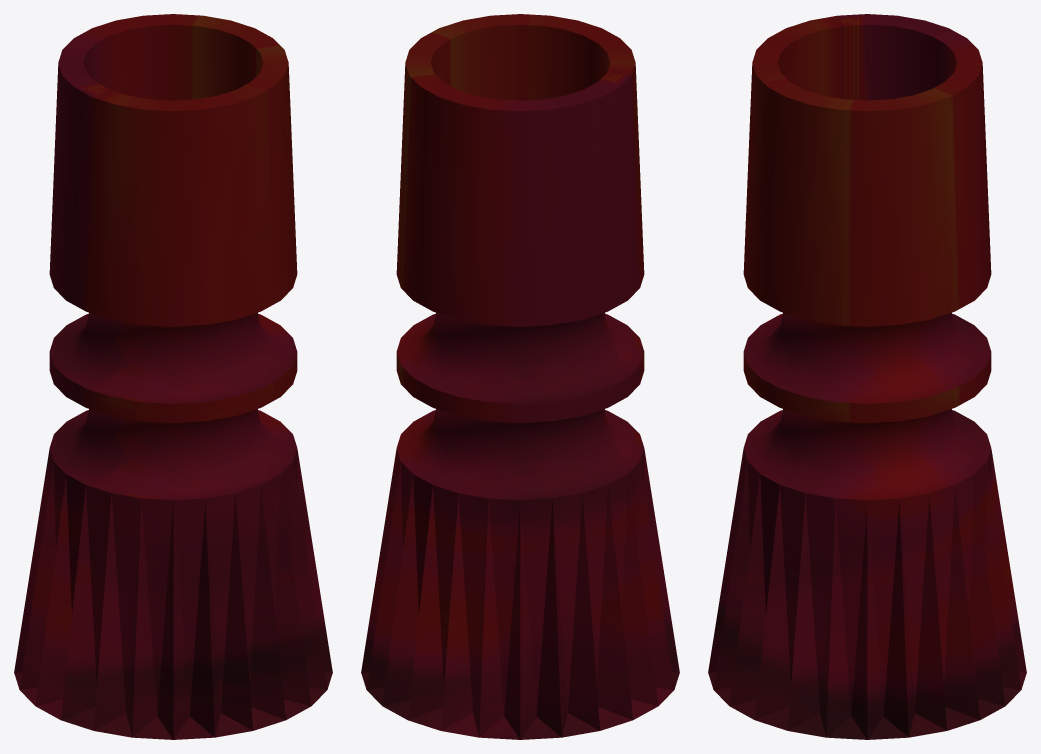
File: PegPlasticT8.fbx
The picture shows the model from 3 angles, left to right: view 1: azimuth 30°, elevation 25°; view 2: azimuth 150°, elevation 25°; view 3: azimuth 270°, elevation 25°; orthographic projection.
Visible parts, largest first — view 1: PegPlasticT8; view 2: PegPlasticT8; view 3: PegPlasticT8.
Part boxes in pixels (<box>): PegPlasticT8: <box>14,14,332,739</box>; PegPlasticT8: <box>361,14,679,739</box>; PegPlasticT8: <box>708,14,1026,739</box>.
Bounding box in the file's own units: 1.85 × 3.9 × 1.85.
Materials: 1 (1 with a texture image).
